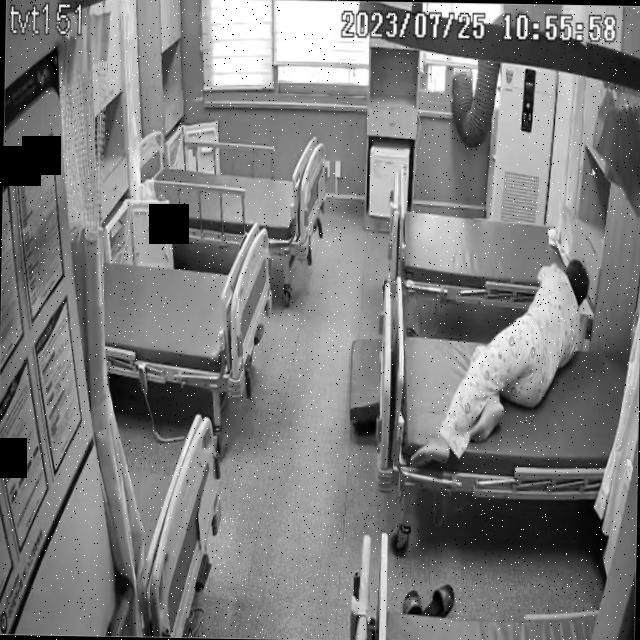bed: (394, 328, 631, 506), (100, 219, 276, 399), (136, 130, 324, 254), (389, 185, 572, 309)
danger: (408, 251, 592, 474)
patient: (408, 252, 590, 474)
